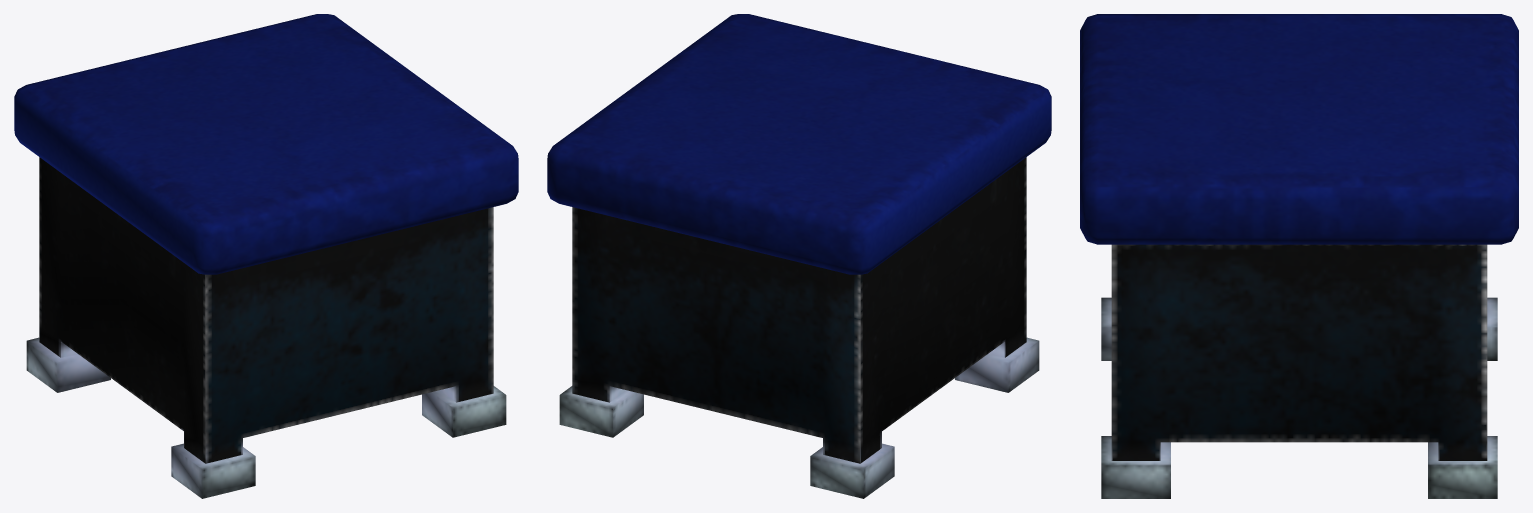
File: Bench_Short_3.fbx
The picture shows the model from 3 angles, left to right: view 1: azimuth 30°, elevation 25°; view 2: azimuth 150°, elevation 25°; view 3: azimuth 270°, elevation 25°; orthographic projection. The views are drawn at different scales.
Parts seen in each view (by area): view 1: R_BenchT2_3; view 2: R_BenchT2_3; view 3: R_BenchT2_3.
Boxes of the visible parts, x1=… form: R_BenchT2_3: x1=14, y1=14, x2=518, y2=498; R_BenchT2_3: x1=547, y1=14, x2=1051, y2=498; R_BenchT2_3: x1=1080, y1=14, x2=1518, y2=498.
Size of the model in its own units: 57.63 by 47.96 by 59.84.
1 material, 1 textured.
